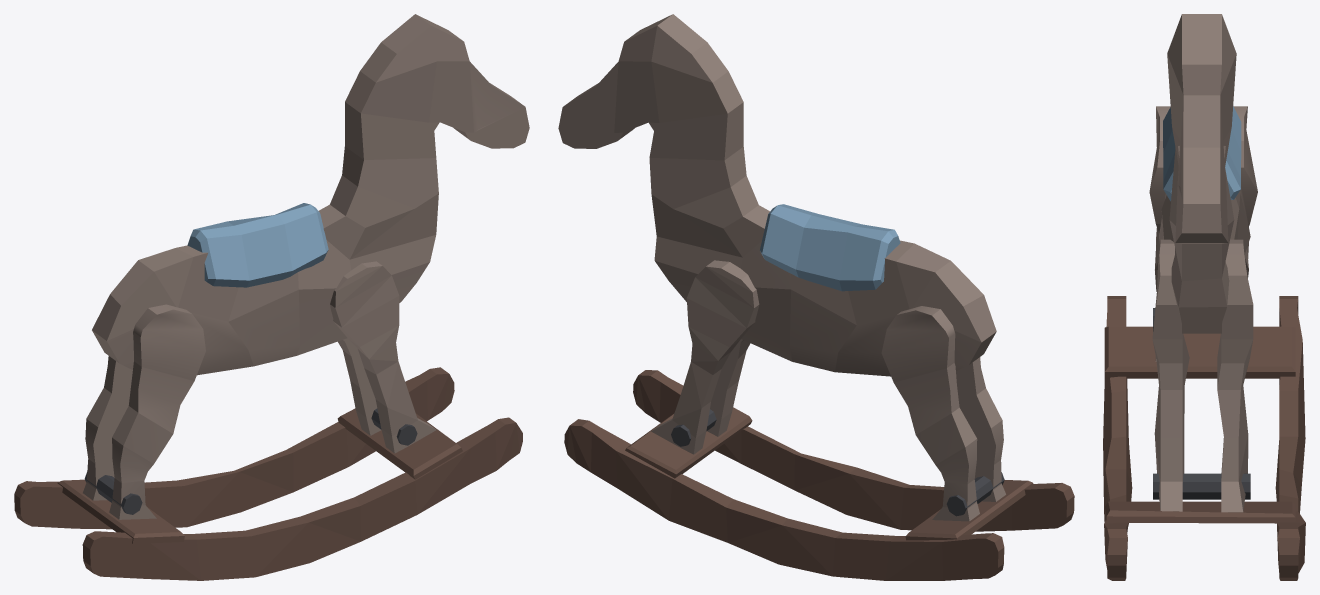
File: horse_player_02.fbx
The picture shows the model from 3 angles, left to right: view 1: azimuth 30°, elevation 25°; view 2: azimuth 150°, elevation 25°; view 3: azimuth 270°, elevation 25°; orthographic projection. The views are drawn at different scales.
Parts seen in each view (by area): view 1: Cheval; view 2: Cheval; view 3: Cheval.
Boxes of the visible parts, box(x1,y1,x2,y2) form: Cheval: box(14, 14, 529, 580); Cheval: box(558, 14, 1074, 580); Cheval: box(1103, 14, 1305, 580).
Bounding box in the file's own units: 126 × 123 × 37.72.
